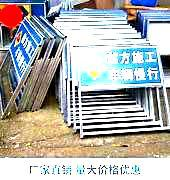sign: (78, 48, 162, 87), (9, 28, 34, 75)
